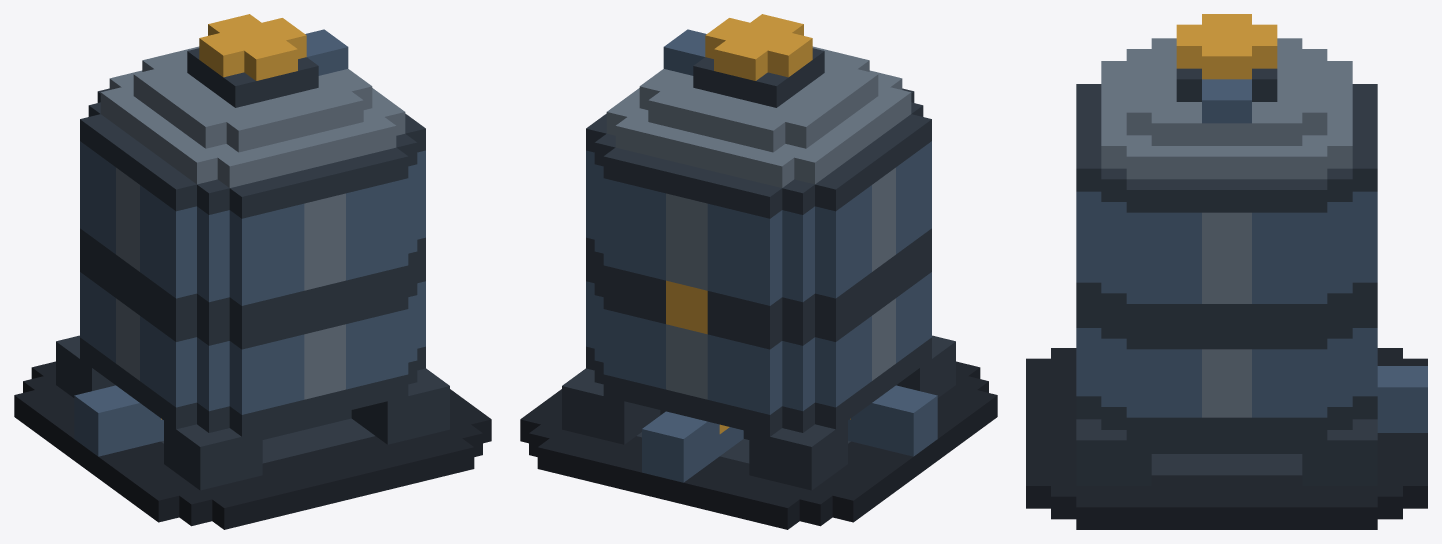
File: water_cistern.glb
The picture shows the model from 3 angles, left to right: view 1: azimuth 30°, elevation 25°; view 2: azimuth 150°, elevation 25°; view 3: azimuth 270°, elevation 25°; orthographic projection. The views are drawn at different scales.
Parts seen in each view (by area): view 1: prop; view 2: prop; view 3: prop.
Boxes of the visible parts, x1,y1,x2,y2 form: prop: [14, 14, 491, 529]; prop: [520, 14, 997, 529]; prop: [1026, 14, 1427, 529].
Size of the model in its own units: 16 by 18 by 16.
